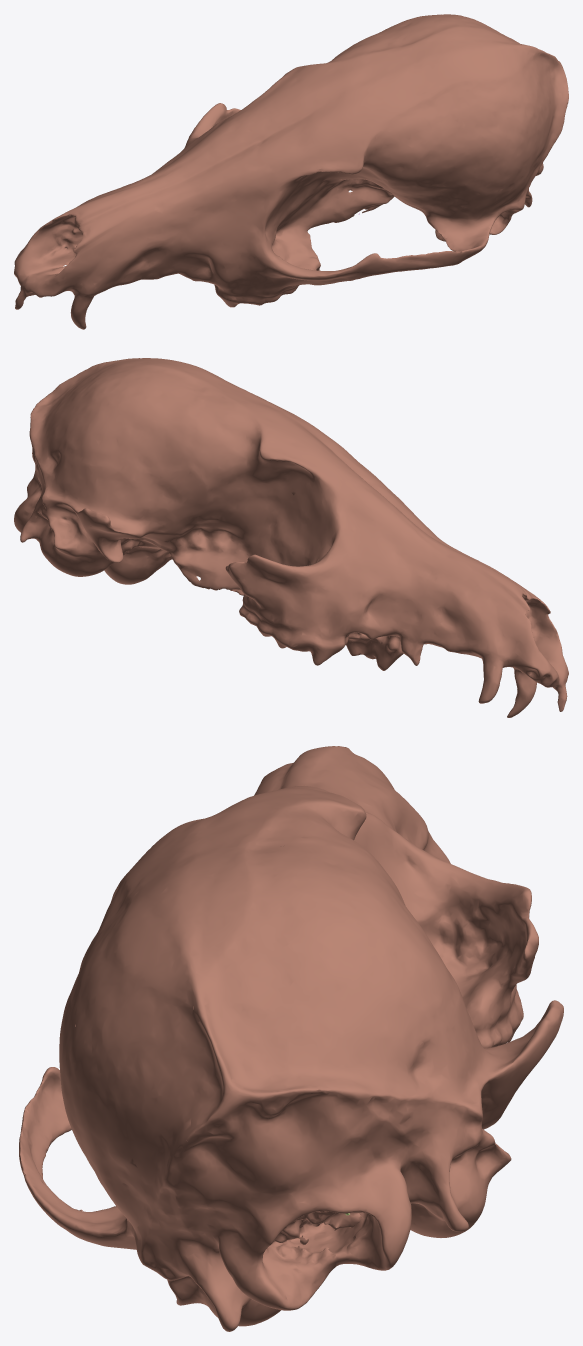
The picture shows the model from 3 angles, top to bottom: view 1: azimuth 30°, elevation 25°; view 2: azimuth 150°, elevation 25°; view 3: azimuth 270°, elevation 25°; orthographic projection. The views are drawn at different scales.
Parts seen in each view (by area): view 1: Object_2.027; view 2: Object_2.027; view 3: Object_2.027.
Boxes of the visible parts, x1=… form: Object_2.027: x1=14, y1=14, x2=568, y2=329; Object_2.027: x1=14, y1=358, x2=568, y2=717; Object_2.027: x1=19, y1=746, x2=563, y2=1331.
Bounding box in the file's own units: 1 × 0.4257 × 0.4578.
